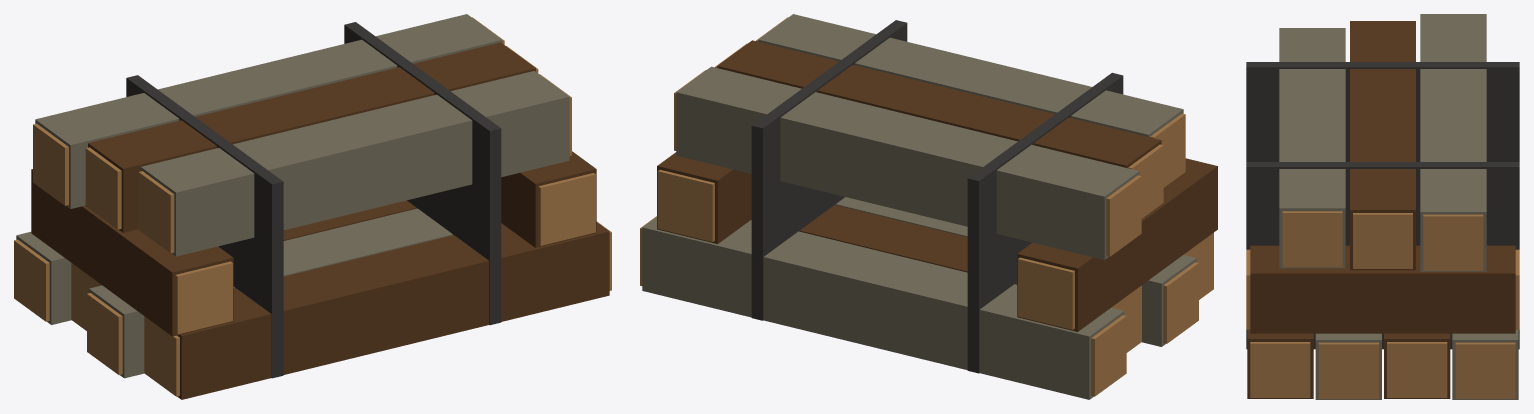
Rendered from timber_stack.glb.
3 renders of one model, left to right at view 1: azimuth 30°, elevation 25°; view 2: azimuth 150°, elevation 25°; view 3: azimuth 270°, elevation 25°, orthographic. The views are drawn at different scales.
Visible parts, largest first — view 1: timber_stack; view 2: timber_stack; view 3: timber_stack.
Part boxes in pixels (bbox=[...]): timber_stack: bbox=[14, 14, 611, 399]; timber_stack: bbox=[640, 14, 1217, 399]; timber_stack: bbox=[1246, 14, 1519, 399].
Bounding box in the file's own units: 2.4 × 0.97 × 1.32.
